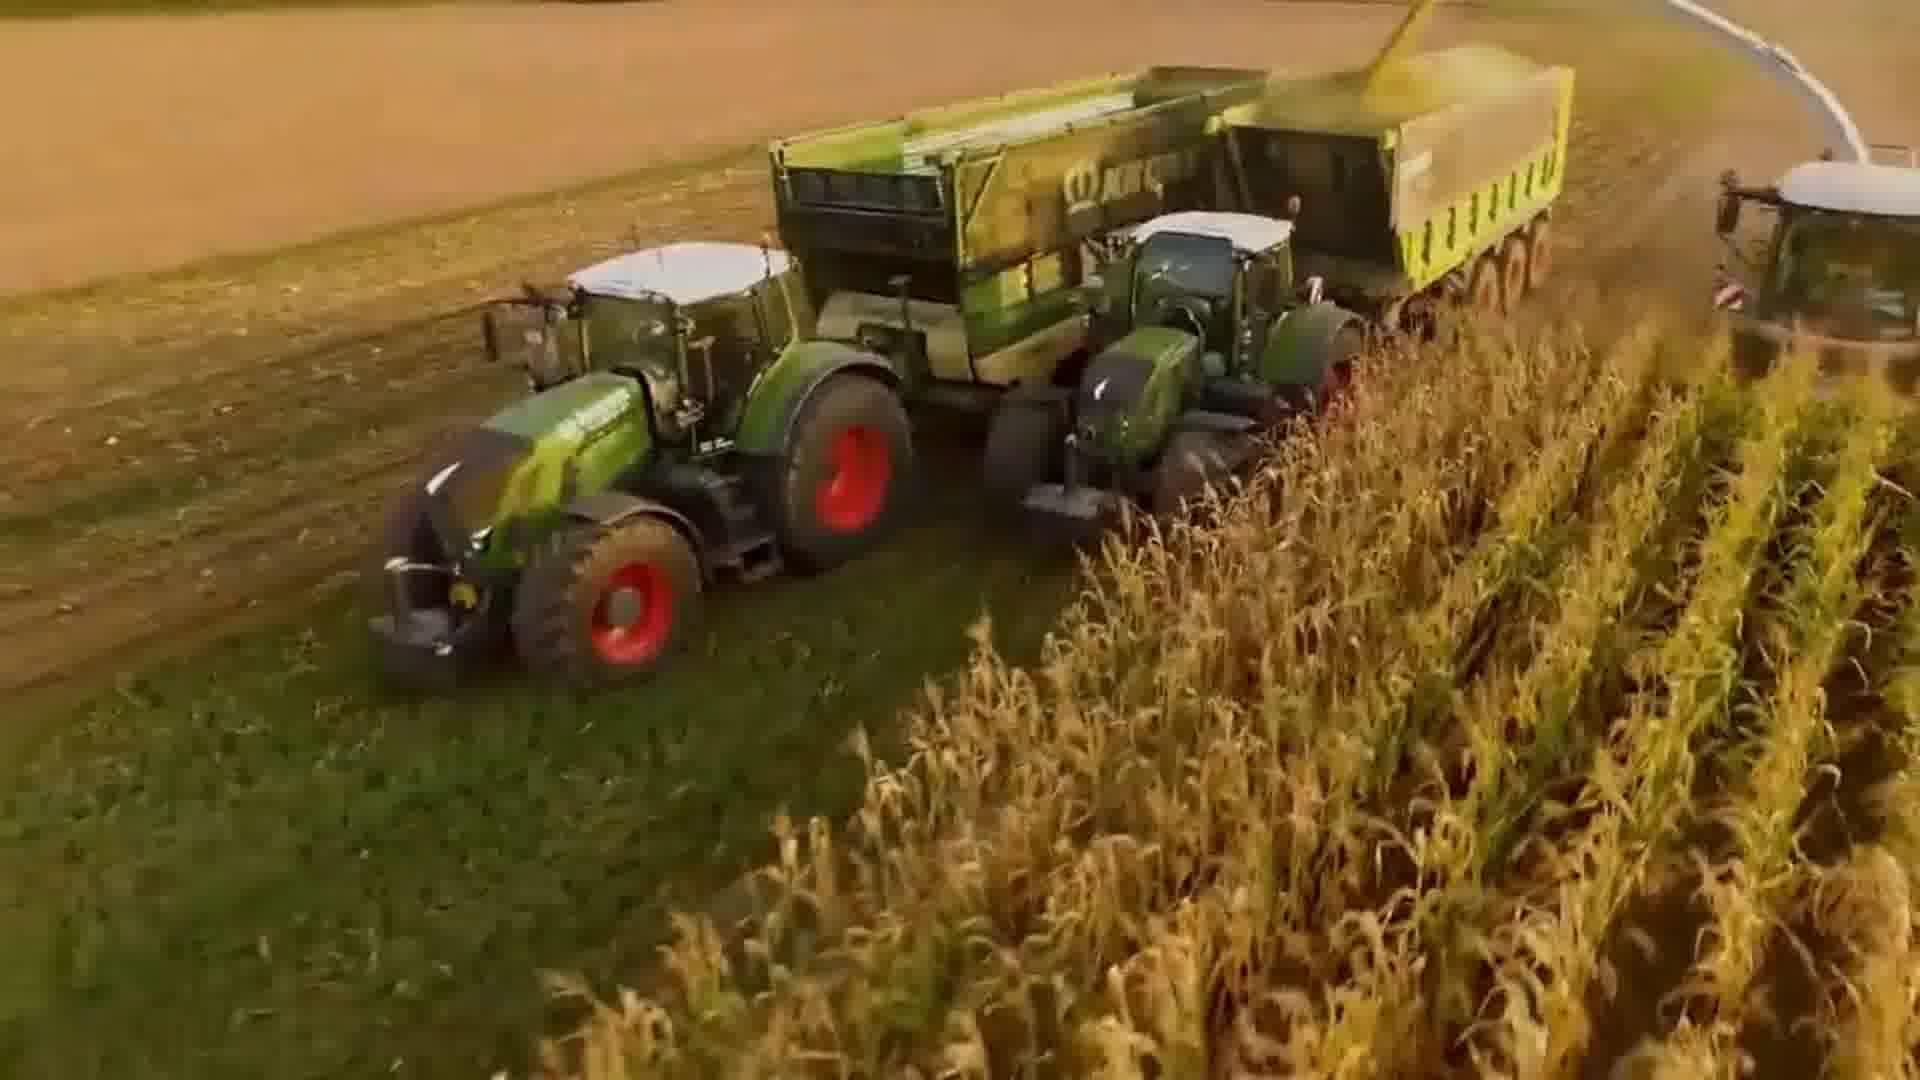combine harvester: (1644, 0, 1920, 419)
tractor: (356, 233, 920, 703), (976, 199, 1379, 563)
trailer: (763, 53, 1287, 394), (1200, 43, 1581, 366)
